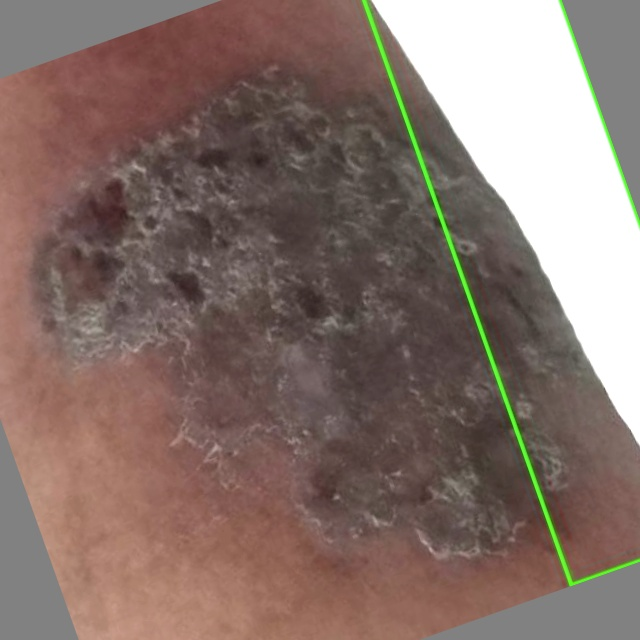Eczema: (363, 0, 639, 585)
